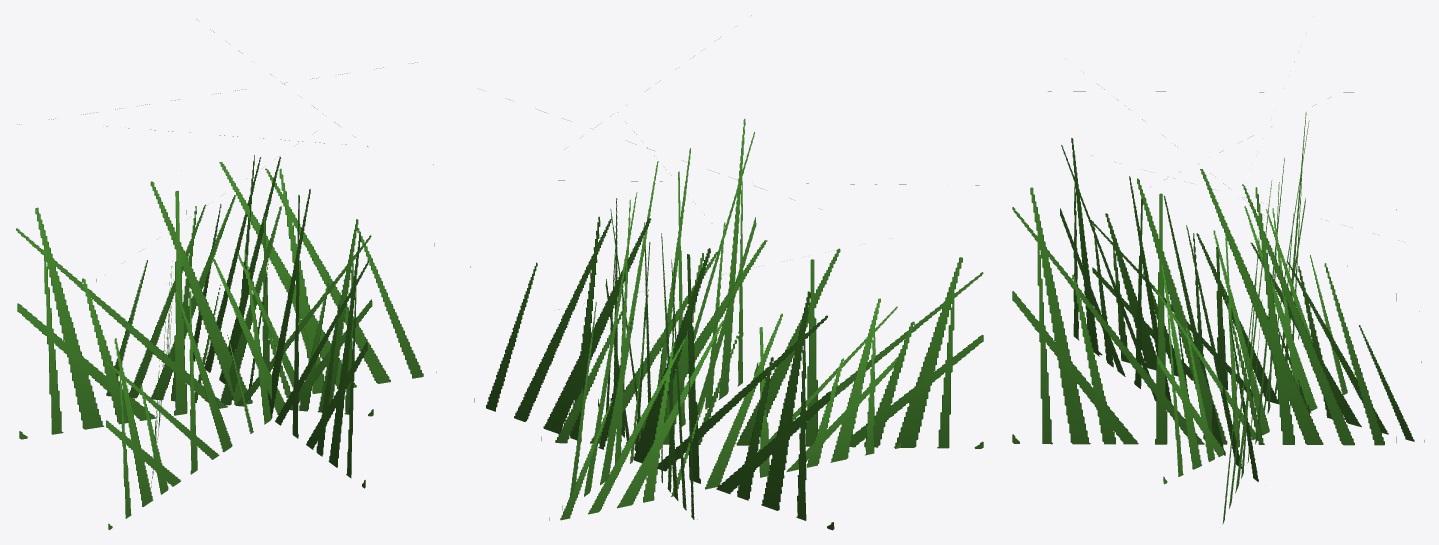
Rendered from prop_grasstuft.glb.
The picture shows the model from 3 angles, left to right: view 1: azimuth 30°, elevation 25°; view 2: azimuth 150°, elevation 25°; view 3: azimuth 270°, elevation 25°; orthographic projection. The views are drawn at different scales.
Parts seen in each view (by area): view 1: prop; view 2: prop; view 3: prop.
Boxes of the visible parts, bbox=[...] form: prop: bbox=[16, 29, 436, 529]; prop: bbox=[470, 15, 983, 530]; prop: bbox=[1012, 89, 1424, 524].
Size of the model in its own units: 0.959 by 0.7566 by 0.7958.
Materials: 1 (1 with a texture image).
